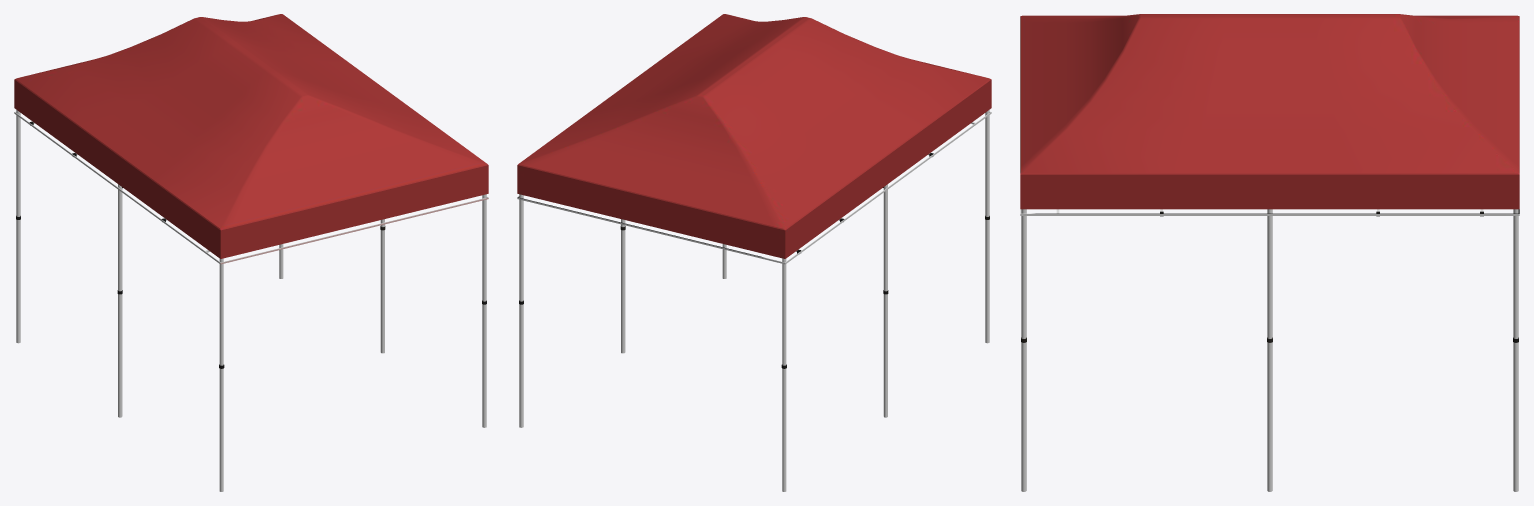
The model's file is Red tent_Baked 1k.fbx.
3 renders of one model, left to right at view 1: azimuth 30°, elevation 25°; view 2: azimuth 150°, elevation 25°; view 3: azimuth 270°, elevation 25°, orthographic. The views are drawn at different scales.
Visible parts, largest first — view 1: Red tent_Baked 1k; view 2: Red tent_Baked 1k; view 3: Red tent_Baked 1k.
Part boxes in pixels (left/top/right/bottom): Red tent_Baked 1k: left=14, top=14, right=488, bottom=491; Red tent_Baked 1k: left=517, top=14, right=991, bottom=491; Red tent_Baked 1k: left=1020, top=14, right=1519, bottom=491.
Size of the model in its own units: 300 by 351 by 400.
